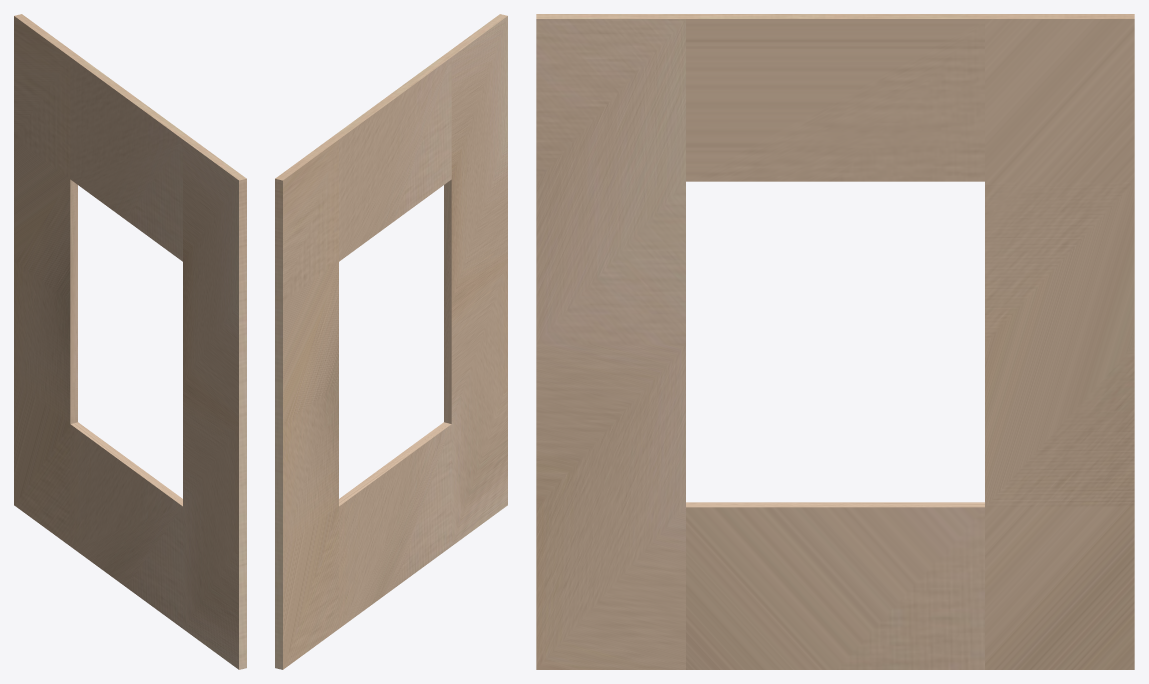
Rendered from cupboardDoorRight.gltf.
The picture shows the model from 3 angles, left to right: view 1: azimuth 30°, elevation 25°; view 2: azimuth 150°, elevation 25°; view 3: azimuth 270°, elevation 25°; orthographic projection. The views are drawn at different scales.
Parts seen in each view (by area): view 1: Cube; view 2: Cube; view 3: Cube.
Boxes of the visible parts, box(x1,y1,x2,y2) form: Cube: box(14, 14, 246, 669); Cube: box(275, 14, 507, 669); Cube: box(536, 14, 1134, 669).
Bounding box in the file's own units: 0.0679 × 4.08 × 3.4.
Materials: 1 (1 with a texture image).
